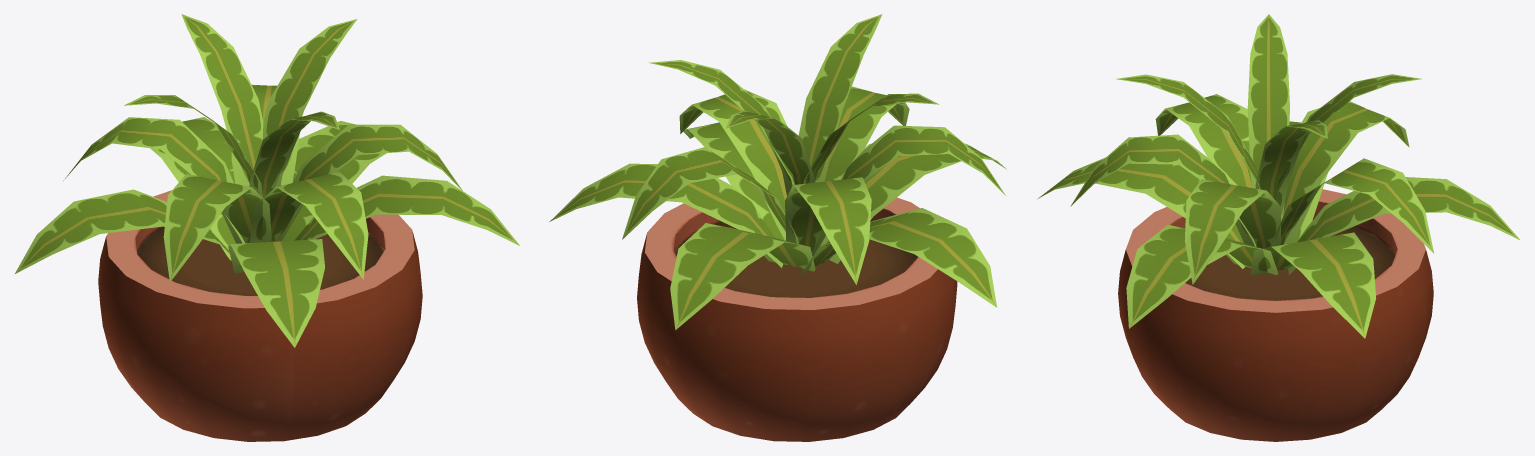
File: PlantPot.fbx
3 renders of one model, left to right at view 1: azimuth 30°, elevation 25°; view 2: azimuth 150°, elevation 25°; view 3: azimuth 270°, elevation 25°, orthographic. The views are drawn at different scales.
Visible parts, largest first — view 1: PlantPot; view 2: PlantPot; view 3: PlantPot.
Boxes of the visible parts, bbox=[...] form: PlantPot: bbox=[15, 14, 519, 441]; PlantPot: bbox=[549, 14, 1006, 441]; PlantPot: bbox=[1038, 14, 1519, 441].
Size of the model in its own units: 2.07 by 1.5 by 2.09.
Materials: 1 (1 with a texture image).
